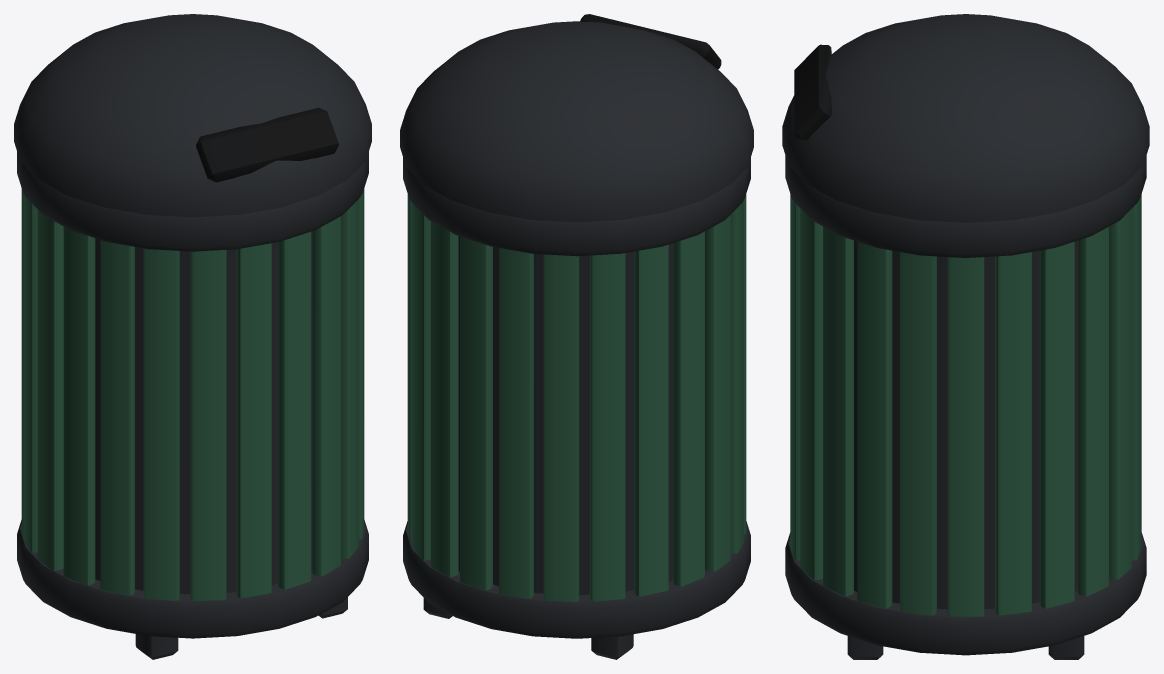
File: TrashCan.fbx
The picture shows the model from 3 angles, left to right: view 1: azimuth 30°, elevation 25°; view 2: azimuth 150°, elevation 25°; view 3: azimuth 270°, elevation 25°; orthographic projection. The views are drawn at different scales.
Visible parts, largest first — view 1: TrashCan_Mesh; view 2: TrashCan_Mesh; view 3: TrashCan_Mesh.
Boxes of the visible parts, <box> form: TrashCan_Mesh: <box>14,14,371,659</box>; TrashCan_Mesh: <box>400,14,753,659</box>; TrashCan_Mesh: <box>782,14,1149,659</box>.
Size of the model in its own units: 0.62 by 1.07 by 0.62.
